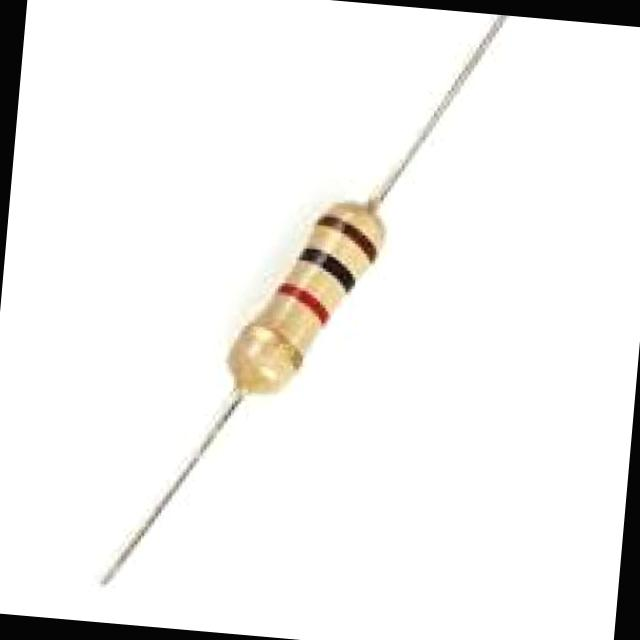Resistor: (227, 203, 384, 391)
black: (294, 249, 360, 297)
brown: (318, 214, 381, 264)
gold: (241, 324, 308, 376)
red: (274, 281, 331, 329)
